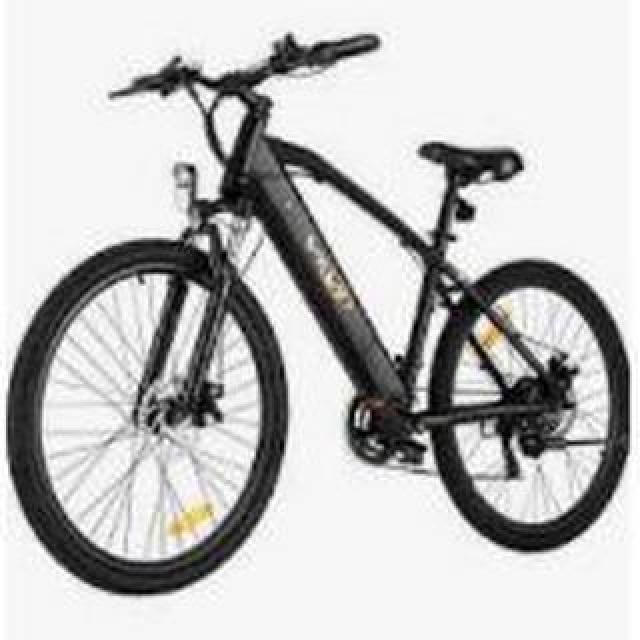Person: (0, 32, 636, 600)
